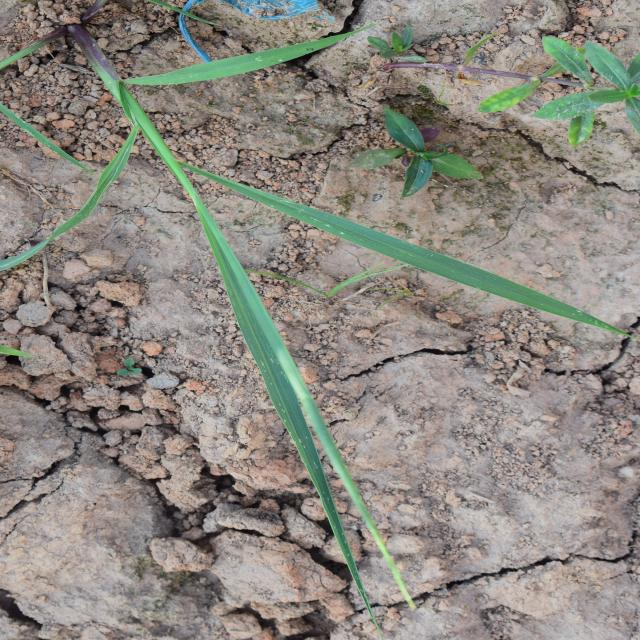green_foxtail: (160, 76, 578, 466)
